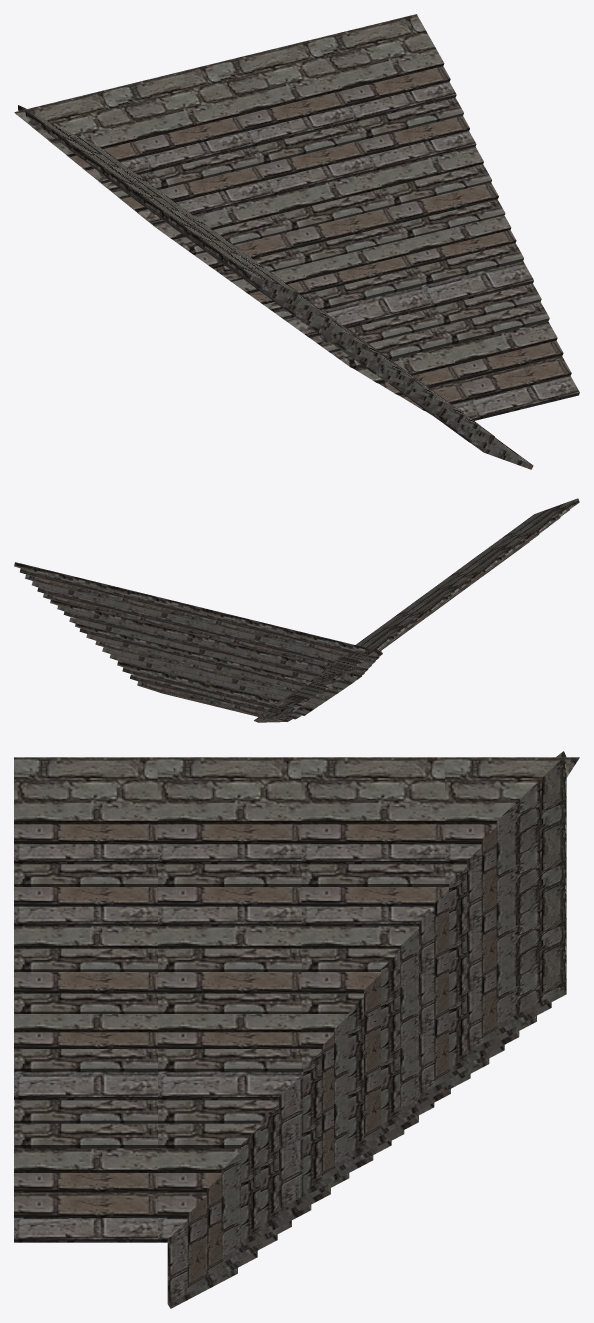
The model's file is RoofTopStone(geçiş -20).fbx.
3 views of the same model, one above another, from view 1: azimuth 30°, elevation 25°; view 2: azimuth 150°, elevation 25°; view 3: azimuth 270°, elevation 25° (orthographic). The views are drawn at different scales.
Parts seen in each view (by area): view 1: Cube.002; view 2: Cube.002; view 3: Cube.002.
Part boxes in pixels (bbox=[...]): Cube.002: bbox=[14, 14, 579, 469]; Cube.002: bbox=[14, 498, 579, 722]; Cube.002: bbox=[14, 751, 579, 1308].
Bounding box in the file's own units: 173 × 108 × 173.
1 material, 1 textured.
